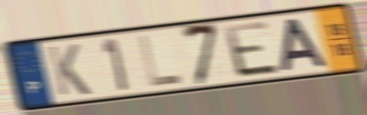1: (101, 36, 131, 94)
7: (181, 21, 222, 89)
A: (279, 16, 330, 74)
E: (221, 18, 283, 80)
K: (45, 42, 94, 98)
L: (136, 33, 186, 90)
